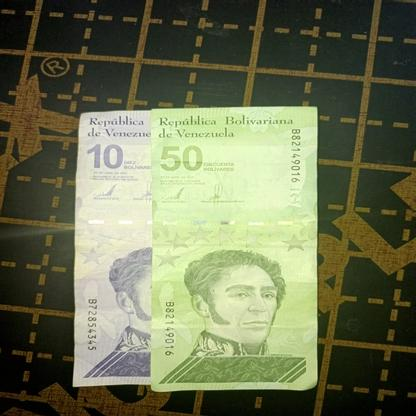fifty-front-vef: (150, 107, 318, 392)
ten-front-vef: (72, 111, 152, 388)
